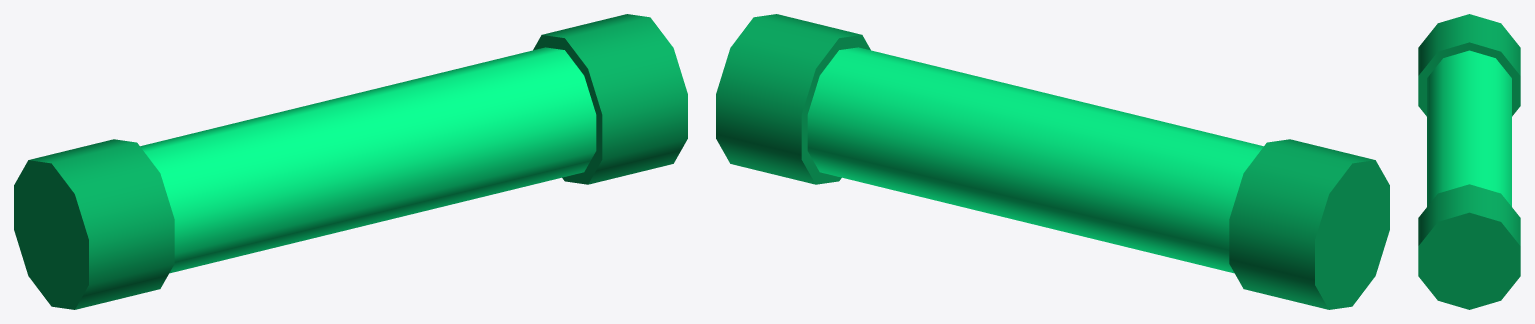
File: fusibles_fundidos.glb
3 renders of one model, left to right at view 1: azimuth 30°, elevation 25°; view 2: azimuth 150°, elevation 25°; view 3: azimuth 270°, elevation 25°, orthographic. The views are drawn at different scales.
Visible parts, largest first — view 1: Body, Detail; view 2: Body, Detail; view 3: Detail, Body.
Part boxes in pixels (x1,y1,x2,y2): Body: [140, 47, 596, 273]; Detail: [14, 14, 687, 309]; Body: [807, 47, 1263, 273]; Detail: [716, 14, 1389, 309]; Detail: [1418, 14, 1520, 309]; Body: [1427, 50, 1511, 206].
Size of the model in its own units: 0.21 by 0.048 by 0.0457.
